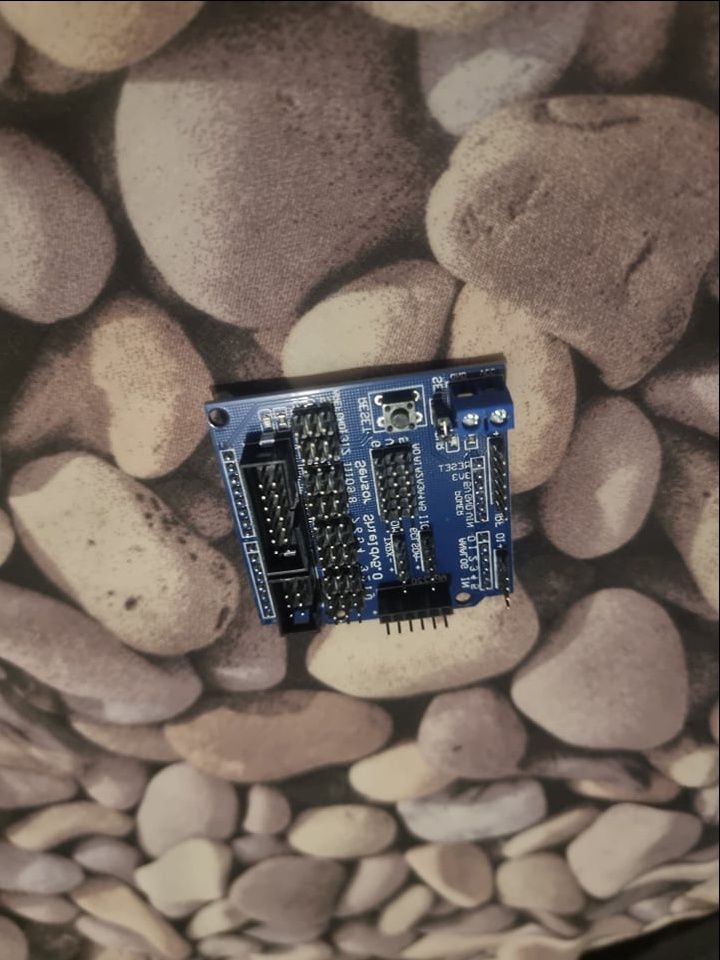5V EXPANSION: (204, 350, 519, 641)
